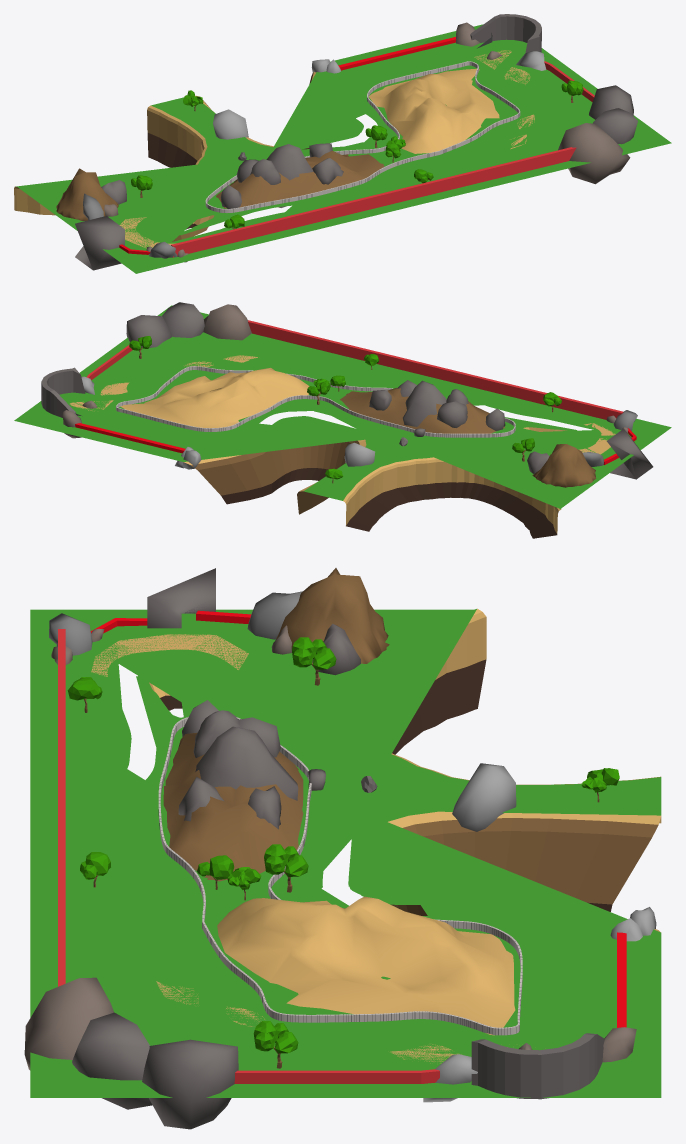
Rendered from Course_background.fbx.
The picture shows the model from 3 angles, top to bottom: view 1: azimuth 30°, elevation 25°; view 2: azimuth 150°, elevation 25°; view 3: azimuth 270°, elevation 25°; orthographic projection. The views are drawn at different scales.
Visible parts, largest first — view 1: Landscape.003; view 2: Landscape.003; view 3: Landscape.003.
Part boxes in pixels (bbox=[...]): Landscape.003: bbox=[14, 14, 671, 273]; Landscape.003: bbox=[14, 302, 671, 538]; Landscape.003: bbox=[24, 568, 661, 1129].
Bounding box in the file's own units: 1146 × 171 × 612.
